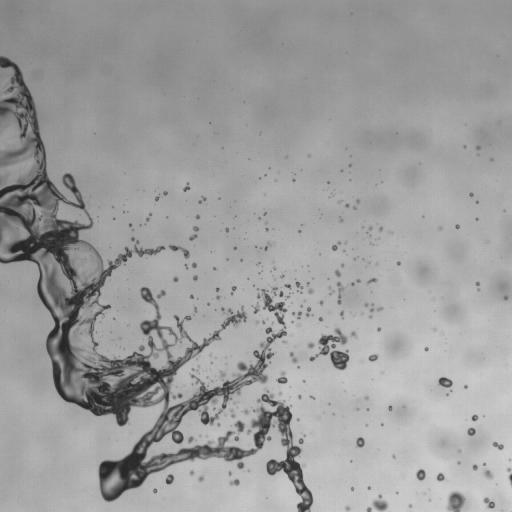droplet: (309, 328, 349, 370), (446, 491, 465, 511), (366, 495, 388, 511), (438, 377, 452, 388), (276, 371, 287, 384), (483, 497, 494, 508), (483, 469, 493, 479), (416, 469, 425, 480), (492, 441, 503, 449), (356, 437, 364, 447), (165, 474, 173, 484), (436, 472, 444, 481), (368, 354, 378, 361), (467, 427, 475, 435), (230, 408, 236, 418), (229, 479, 239, 485), (183, 183, 190, 191), (187, 436, 195, 443), (350, 331, 357, 338), (471, 414, 478, 421), (0, 175, 5, 184), (306, 307, 311, 316), (199, 196, 206, 202), (294, 312, 301, 318), (307, 342, 314, 348), (231, 286, 236, 294), (335, 270, 340, 276), (173, 276, 178, 282), (285, 283, 291, 288), (308, 288, 313, 294), (472, 464, 477, 470), (198, 475, 203, 481), (475, 281, 479, 288), (345, 506, 350, 511), (155, 195, 159, 201), (192, 262, 196, 267), (193, 275, 197, 280), (388, 405, 392, 410), (189, 470, 193, 475), (340, 311, 343, 317), (163, 191, 167, 195), (469, 192, 473, 196), (345, 203, 349, 207), (455, 224, 459, 228), (396, 261, 400, 265), (216, 295, 220, 299), (318, 317, 322, 321), (377, 327, 381, 331), (424, 347, 428, 351), (278, 391, 282, 395), (282, 340, 287, 343), (476, 146, 480, 149), (379, 227, 382, 231), (272, 266, 275, 270), (319, 301, 323, 304), (255, 320, 258, 324), (310, 395, 314, 398), (228, 471, 231, 475), (153, 489, 157, 492), (356, 199, 359, 202), (196, 215, 199, 218), (339, 218, 342, 221), (225, 228, 228, 231), (233, 246, 236, 249), (213, 267, 216, 270), (357, 279, 360, 282), (351, 282, 354, 285), (190, 295, 193, 298), (504, 296, 507, 299), (464, 385, 467, 388), (298, 395, 301, 398), (365, 396, 368, 399), (233, 401, 236, 404), (350, 487, 353, 490), (409, 504, 412, 507), (338, 200, 341, 202), (265, 228, 268, 230), (185, 265, 187, 268), (281, 274, 283, 277), (216, 288, 219, 290), (194, 308, 196, 311), (369, 315, 371, 318), (262, 321, 265, 323), (217, 423, 220, 425), (392, 455, 395, 457), (483, 462, 485, 465), (308, 154, 310, 156), (129, 224, 131, 226), (439, 228, 441, 230), (306, 283, 308, 285), (207, 302, 209, 304), (297, 324, 299, 326), (381, 423, 383, 425)
ligament: (0, 56, 310, 511), (169, 245, 189, 258), (364, 302, 382, 312), (336, 282, 344, 304), (189, 226, 198, 241), (506, 467, 511, 486), (289, 352, 297, 363), (332, 241, 340, 250), (295, 281, 302, 290), (367, 278, 377, 284), (264, 242, 270, 250), (328, 286, 333, 295), (367, 226, 372, 233), (146, 214, 150, 220)
